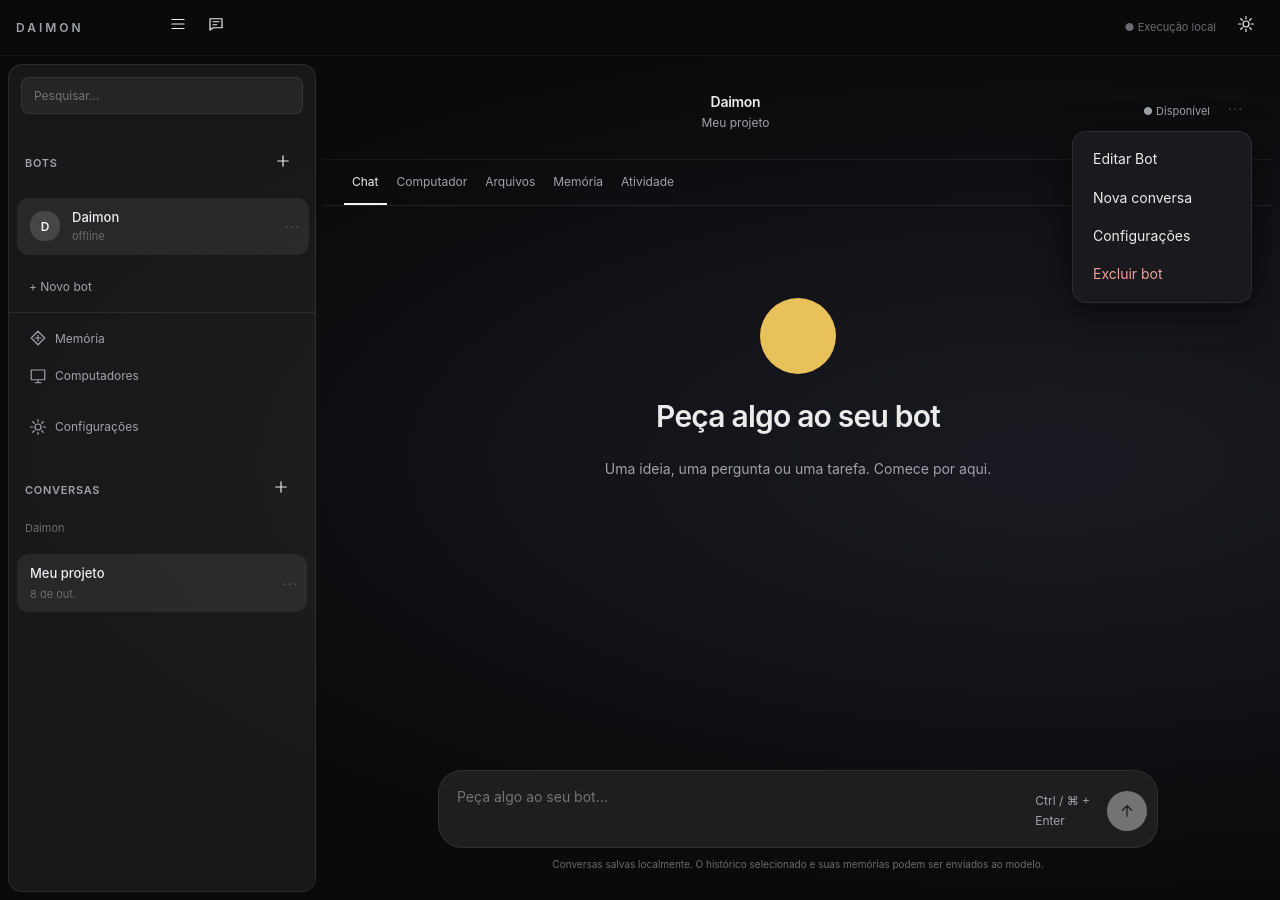
Test: labels the existing bot editor Editar Bot without appearance fields or saving on open
The width and height of the screenshot is (1280, 900).
Expected: the button "Meu projeto 8 de out." is shown, [17, 554, 307, 612]
Expected: the heading "Daimon" is shown, [711, 93, 760, 110]
Click the button "Editar Bot": (1162, 159) [1081, 140, 1243, 179]
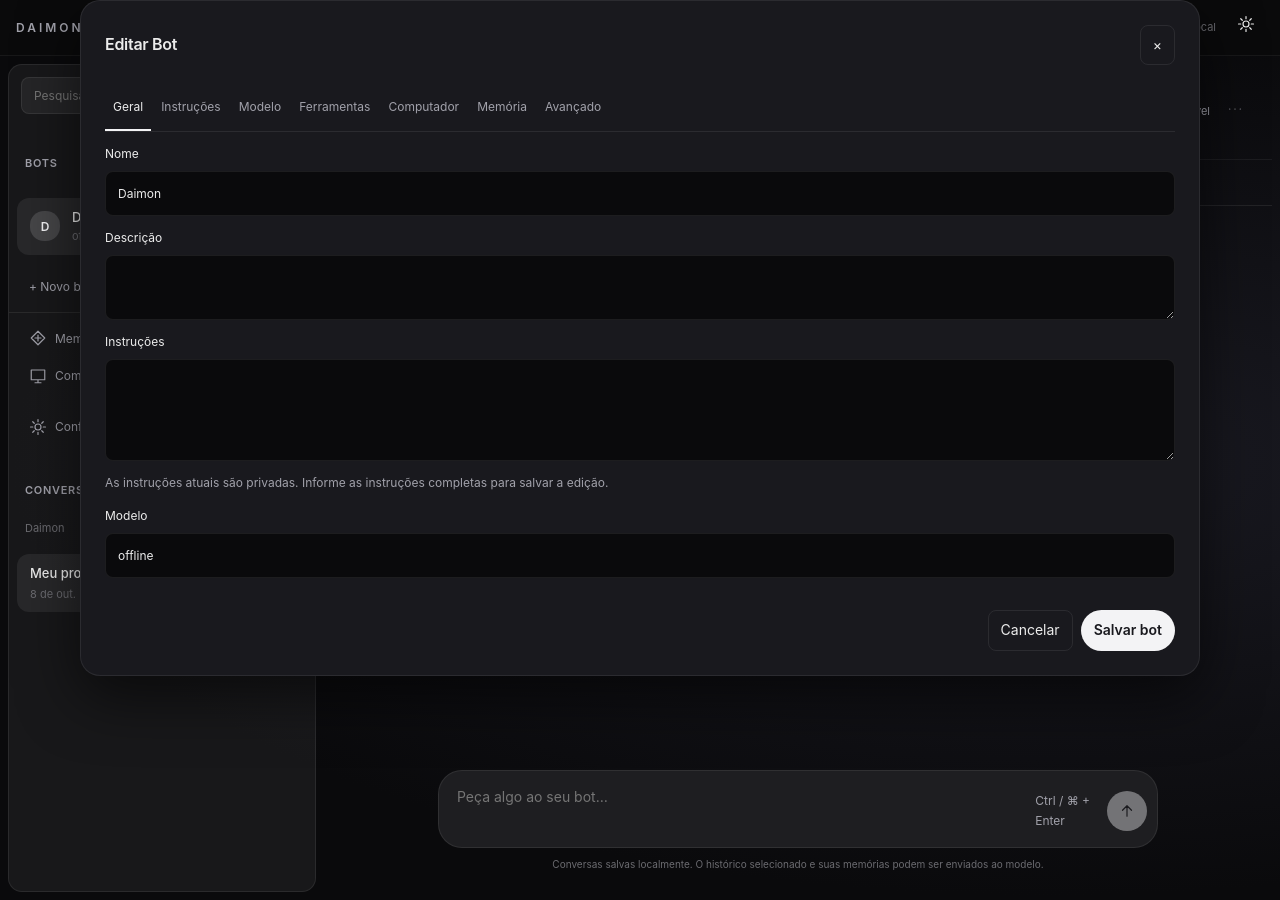
Expected: the heading "Editar Bot" is shown, [105, 32, 177, 58]
Expected: the field labelled "Nome" is shown, [105, 171, 1175, 216]
